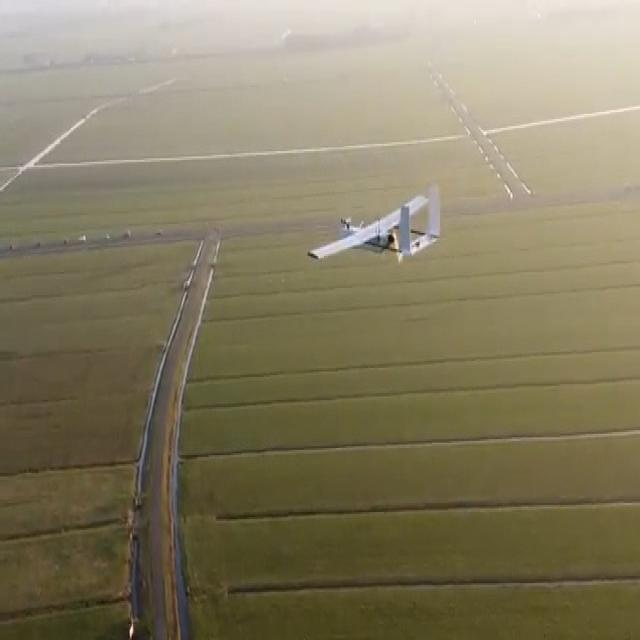drones: (308, 180, 453, 285)
